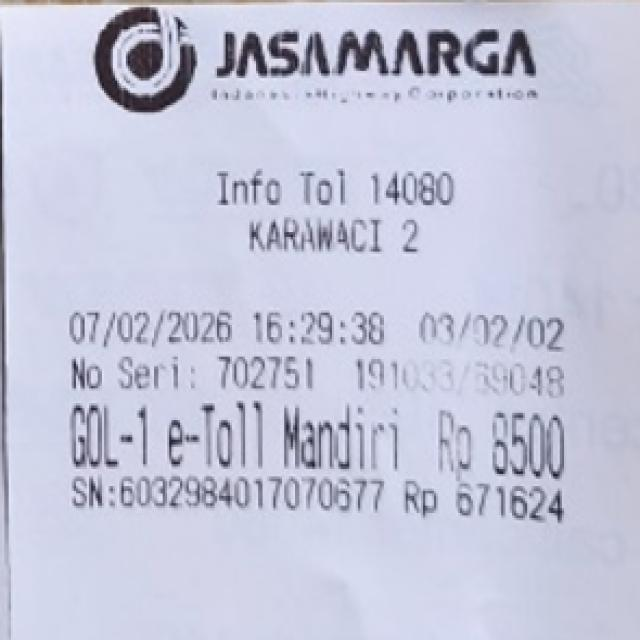date: (62, 306, 391, 349)
store: (208, 17, 551, 106)
total: (426, 409, 586, 483)
